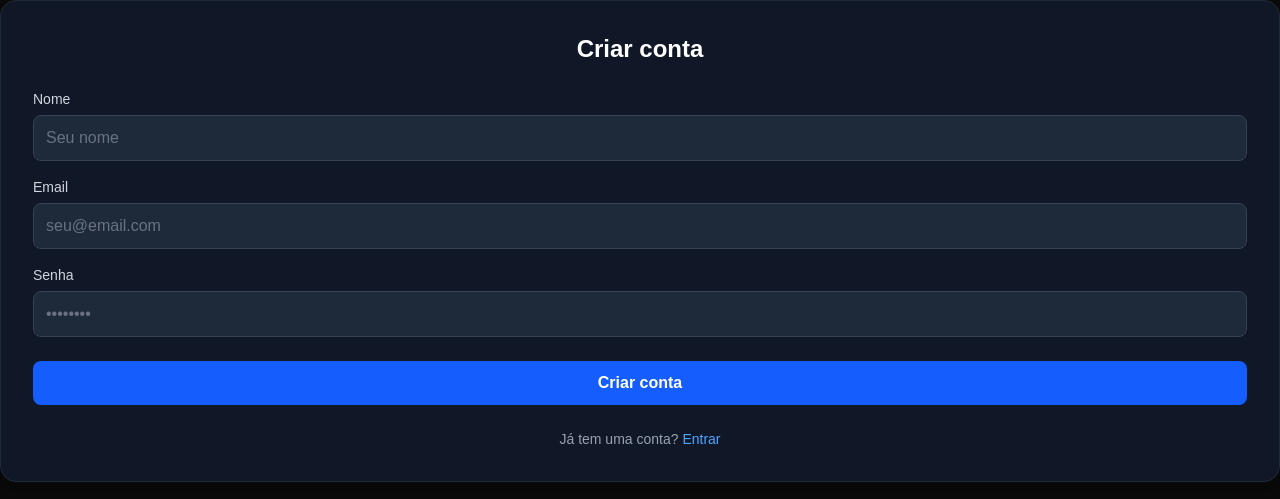
Auth pages – Unit Tests (Task 12.2) › SignupPage › displays "Este email já está cadastrado." when signUp returns user_already_exists error
Step 1. Type "João" into the field labelled "Nome" → point(640, 138), box [33, 115, 1247, 161]
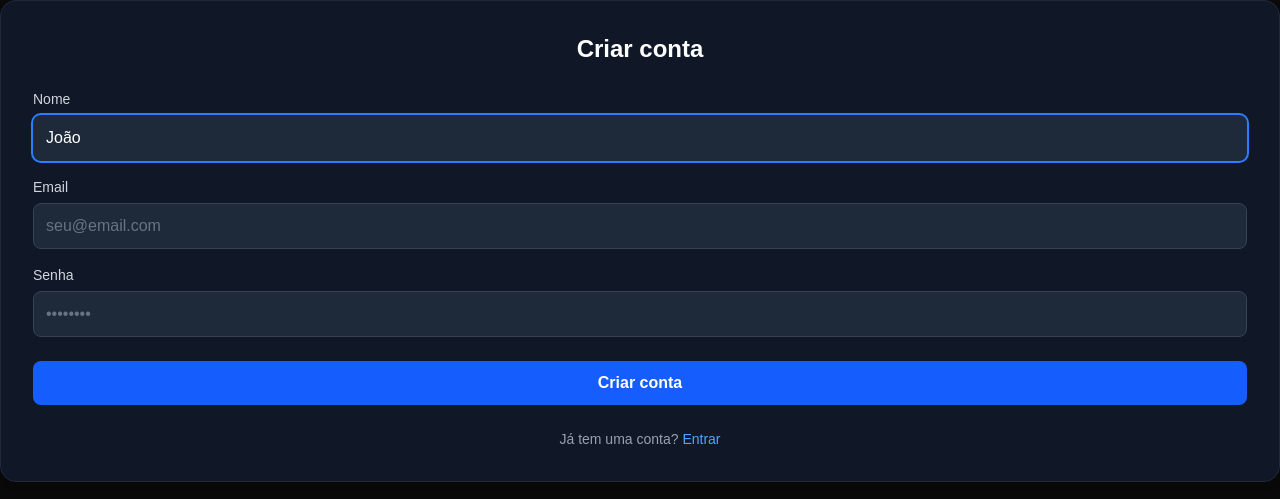
Step 2. Type "existing@example.com" into the field labelled "Email" → point(640, 226), box [33, 203, 1247, 249]
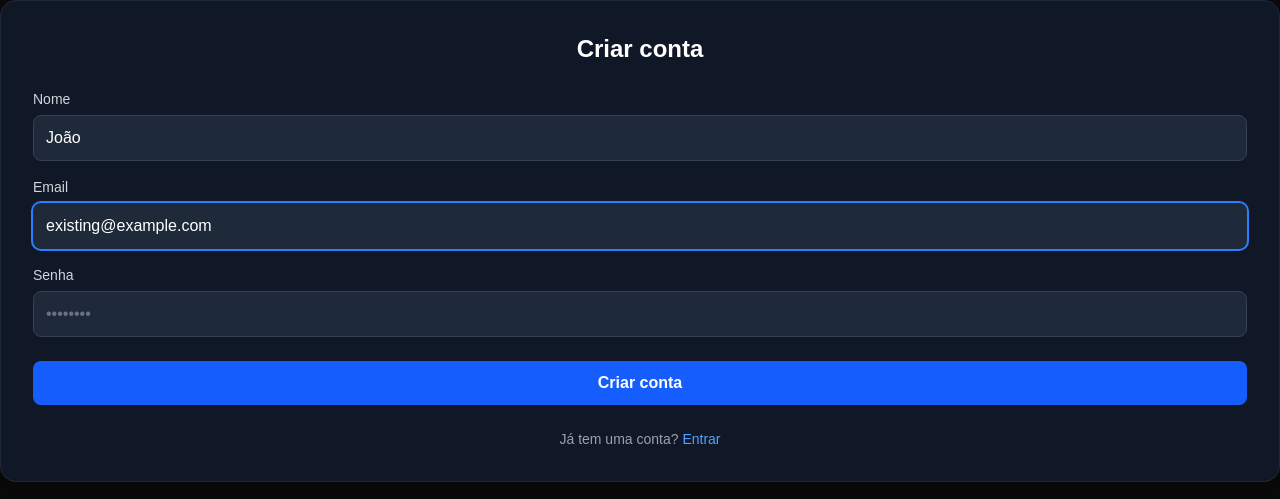
Step 3. Type "password123" into the password field labelled "Senha" → point(640, 314), box [33, 291, 1247, 337]
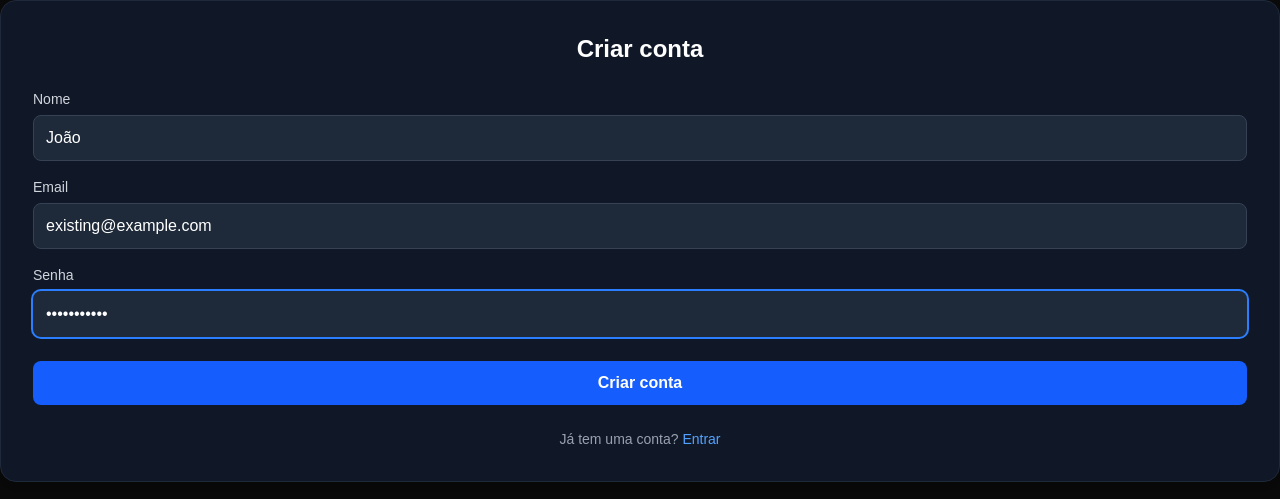
Step 4. Click the button "Criar conta" → point(640, 383), box [33, 361, 1247, 405]
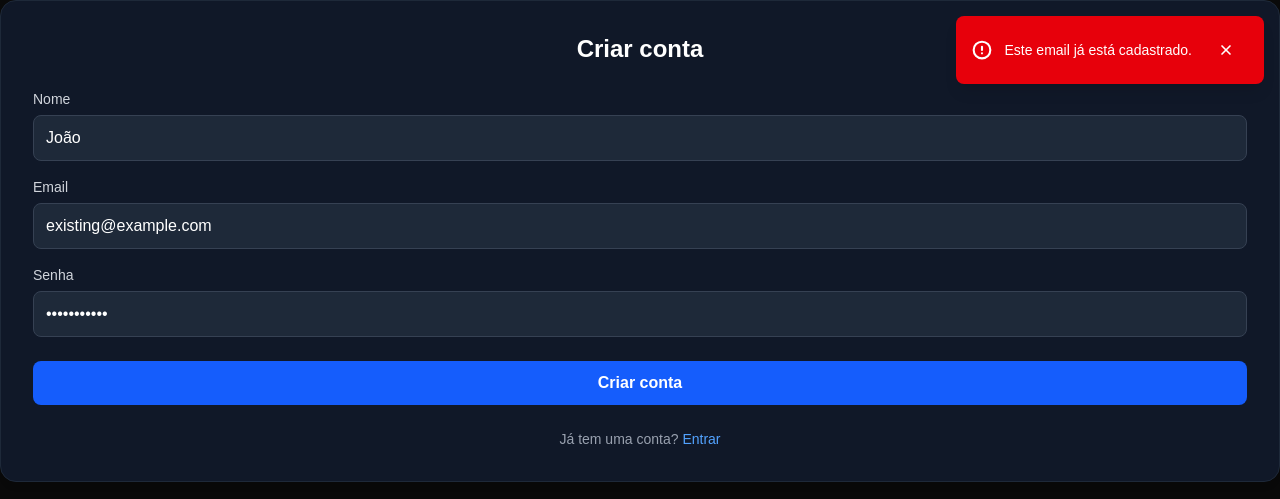
Now the text "Este email já está cadastrado." is shown, box [1004, 40, 1192, 60]
